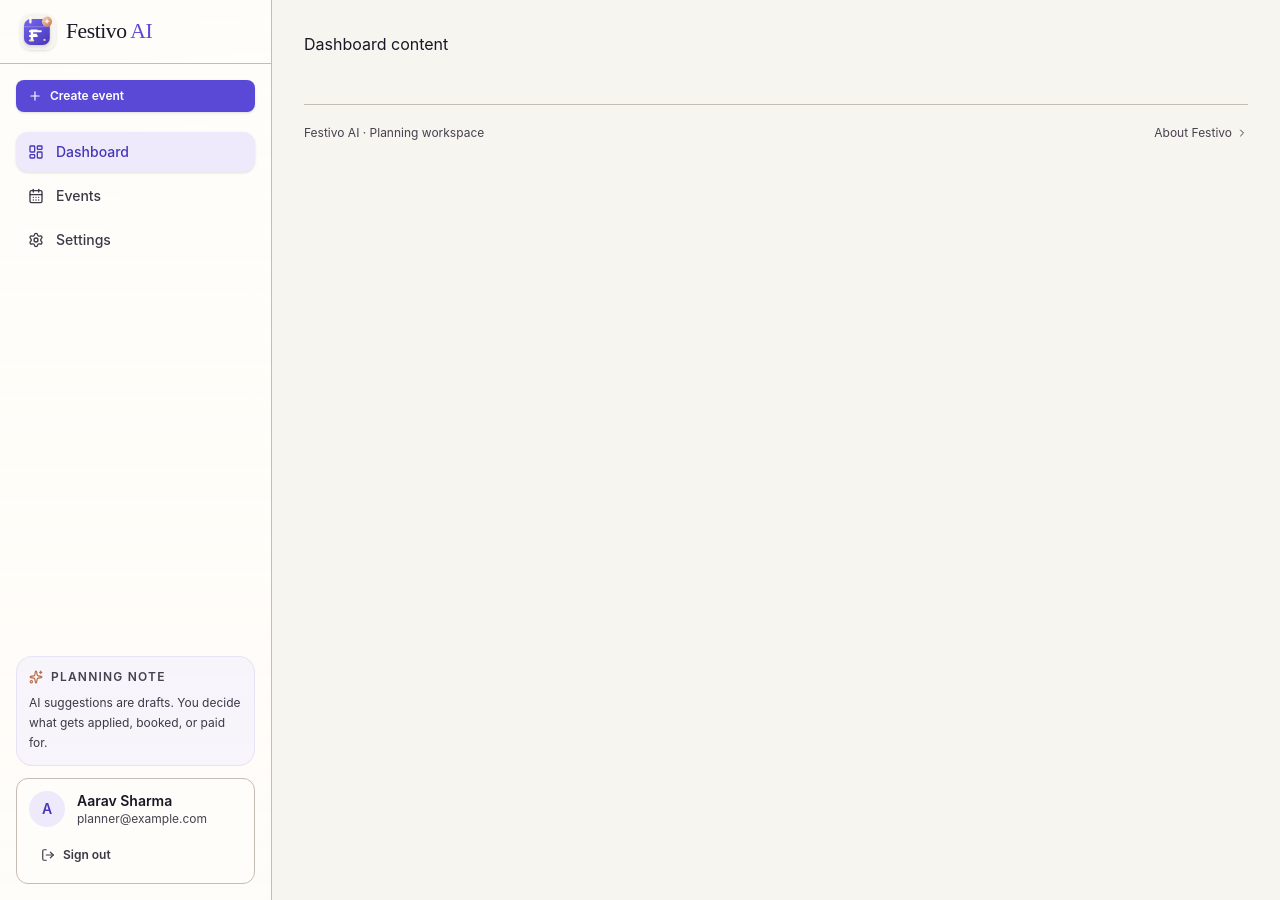
Test: app shell › signs out from the workspace and returns to the landing page
This screenshot has width=1280, height=900.
What coordinates should you click on to do the following:
click the button "Sign out"
I would click on:
 (136, 855)
Its box is [29,839,242,871].
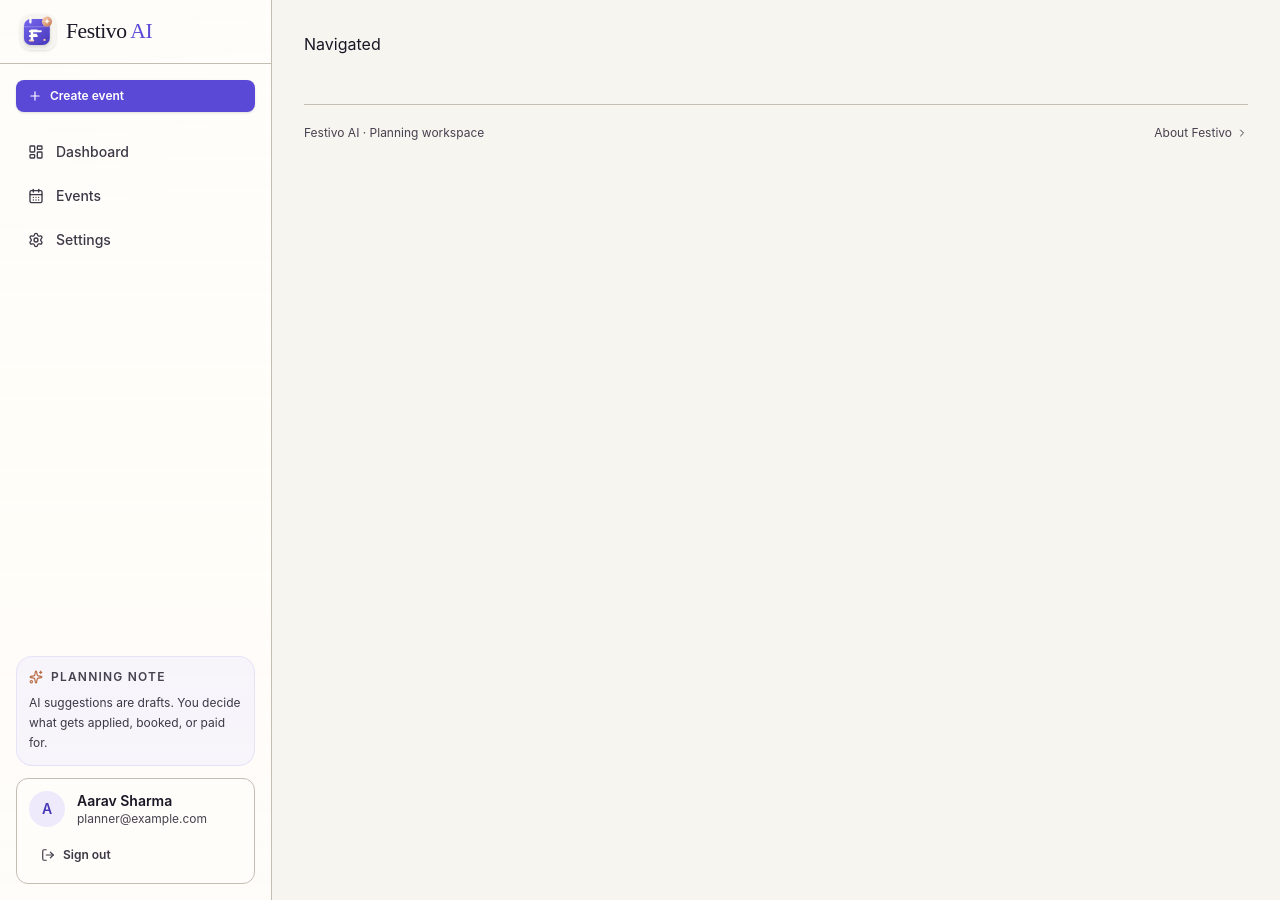
Result: the text "Navigated" is shown at [304,34,381,54]
